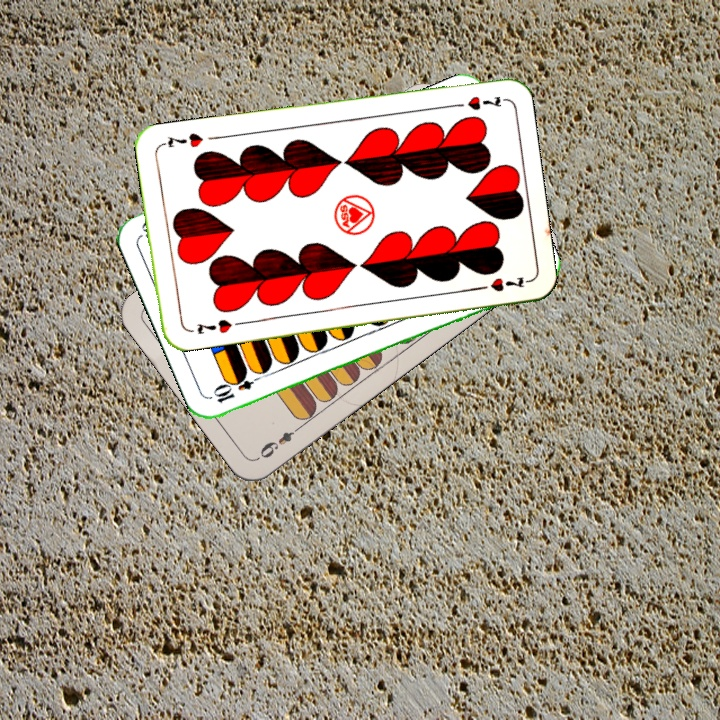E10: (209, 369, 266, 406)
E9: (253, 421, 304, 462)
H7: (447, 92, 506, 113), (192, 315, 235, 337)
